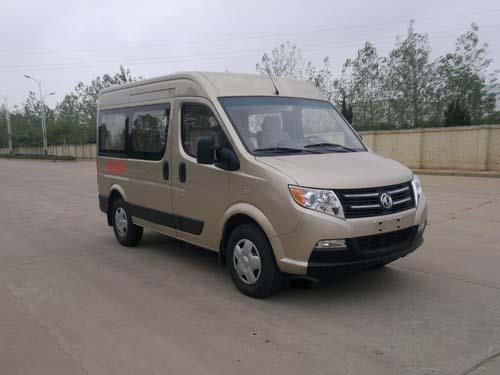midcar: (73, 75, 441, 302)
